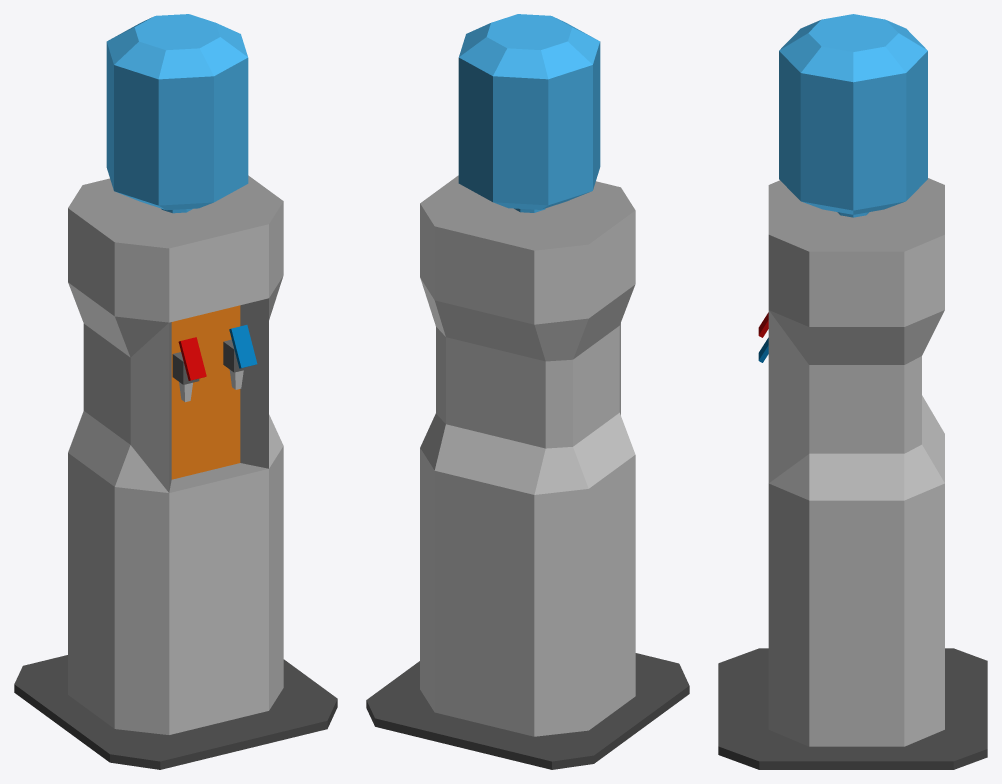
Rendered from WaterCooler.fbx.
3 renders of one model, left to right at view 1: azimuth 30°, elevation 25°; view 2: azimuth 150°, elevation 25°; view 3: azimuth 270°, elevation 25°, orthographic.
Visible parts, largest first — view 1: WaterCooler; view 2: WaterCooler; view 3: WaterCooler.
Boxes of the visible parts, bbox=[...] form: WaterCooler: bbox=[14, 14, 337, 769]; WaterCooler: bbox=[366, 14, 689, 769]; WaterCooler: bbox=[718, 14, 987, 769].
Bounding box in the file's own units: 1058 × 2967 × 1065.
